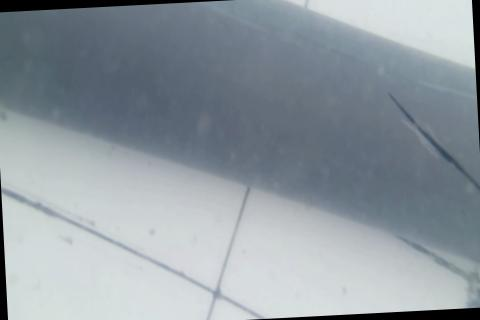keretakan: (386, 87, 480, 219)
